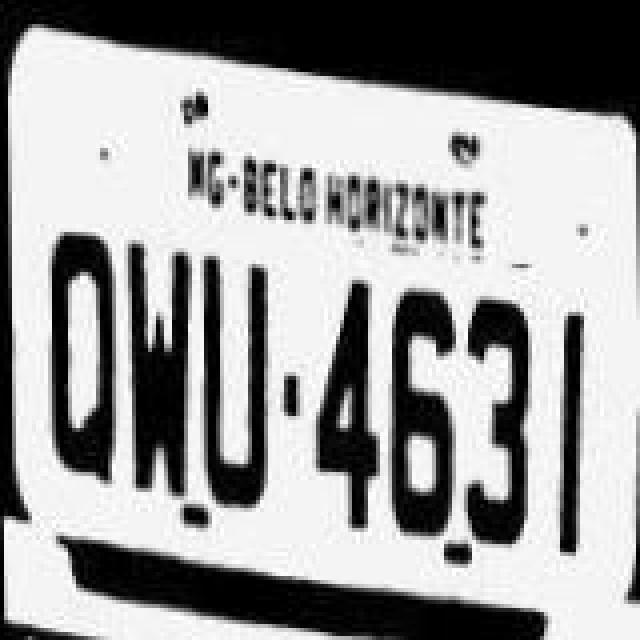1: (538, 292, 602, 560)
3: (458, 284, 538, 552)
4: (308, 260, 384, 548)
6: (380, 268, 464, 552)
Q: (38, 218, 122, 502)
U: (190, 242, 274, 518)
W: (122, 226, 198, 502)
